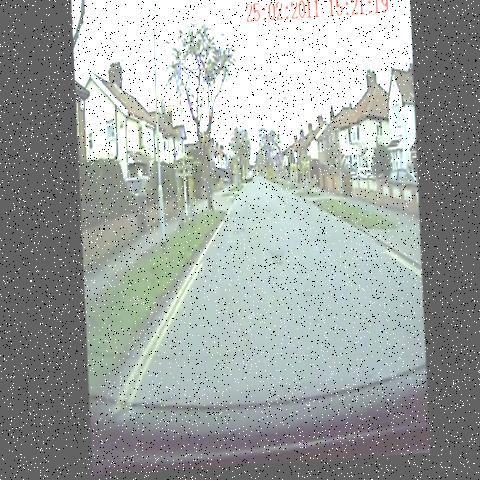pothole: (258, 240, 292, 283), (224, 223, 244, 251), (296, 285, 320, 305), (252, 185, 267, 211), (261, 204, 279, 225), (237, 195, 254, 216)
